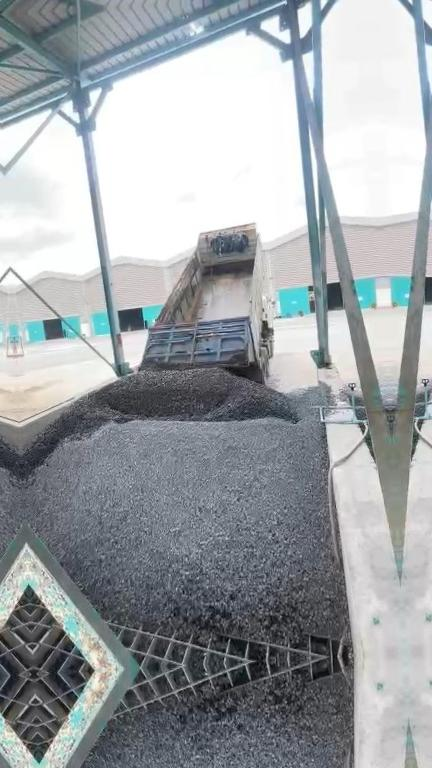gravel: (23, 379, 346, 639), (21, 369, 298, 474), (139, 354, 247, 369)
sand: (18, 381, 58, 421)
